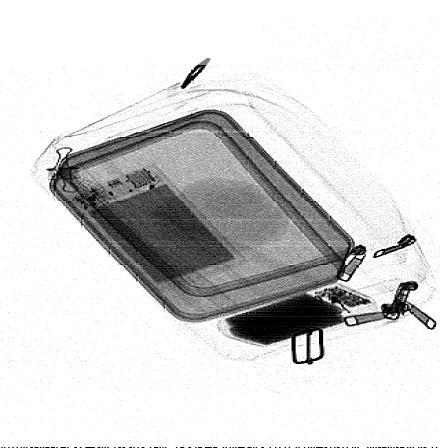Powerbank: (70, 162, 243, 292), (215, 280, 377, 348)
